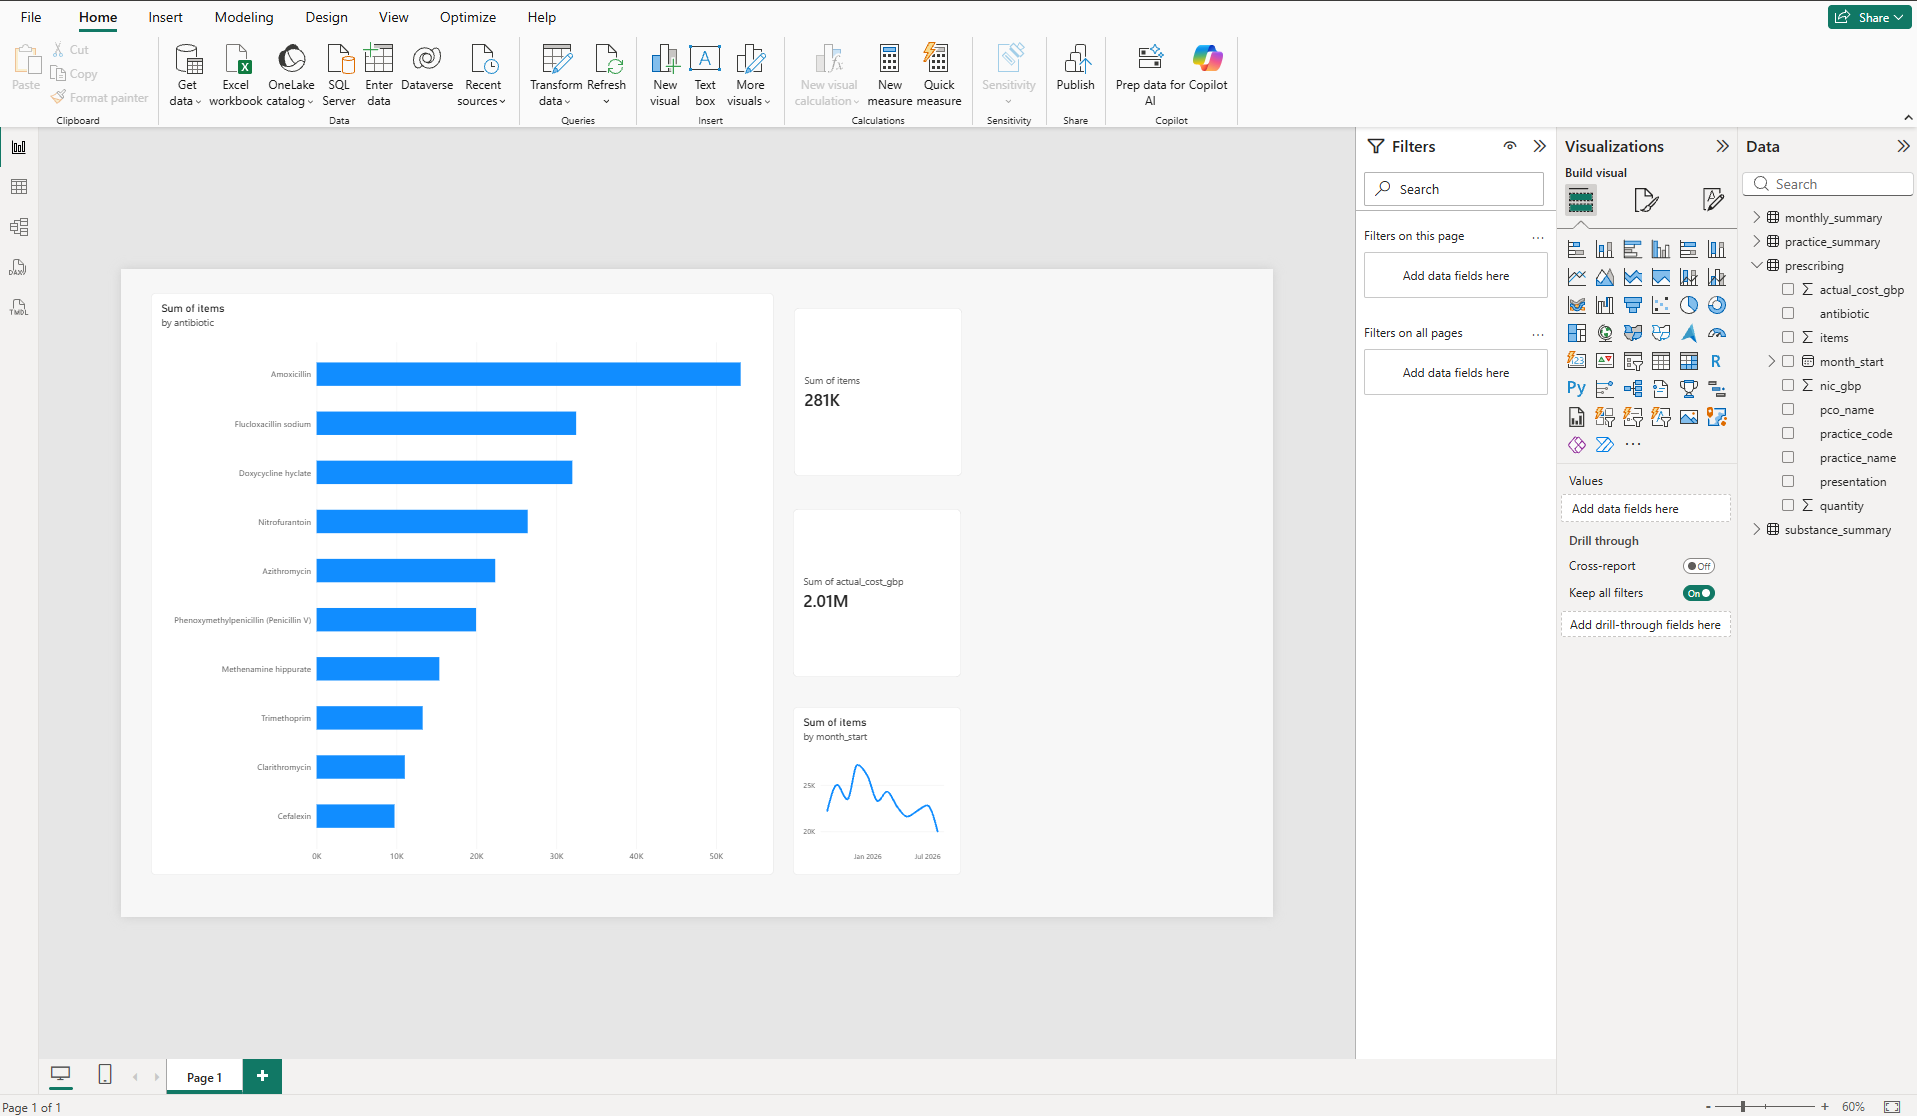

The page's visual inventory and layout, read from the dashboard file:
{"tool":"powerbi","page":{"name":"Page 1","canvas":[1920,1080],"ordinal":0},"visuals":[{"type":"cardVisual","fields":{"Data":["Sum(prescribing.items)"]},"box":[1121.1,65.6,280,280],"z":0},{"type":"cardVisual","fields":{"Data":["Sum(prescribing.actual_cost_gbp)"]},"box":[1120,400,280,280],"z":1000},{"type":"lineChart","fields":{"Category":["prescribing.month_start"],"Y":["Sum(prescribing.items)"]},"box":[1120,730,280,280],"z":2000},{"type":"barChart","fields":{"Category":["prescribing.antibiotic"],"Y":["Sum(prescribing.items)"]},"box":[50,40,1037.5,970],"z":3000}]}

Visuals, with their boxes on the page's 1920x1080 design canvas (x1, y1, x2, y2). These are canvas units, not pixel positions in the 1917x1116 screenshot, which may show the page scaled, cropped or inside an application window:
cardVisual - Sum(prescribing.items): 1121 66 1401 346
cardVisual - Sum(prescribing.actual_cost_gbp): 1120 400 1400 680
lineChart - prescribing.month_start x Sum(prescribing.items): 1120 730 1400 1010
barChart - prescribing.antibiotic x Sum(prescribing.items): 50 40 1088 1010
